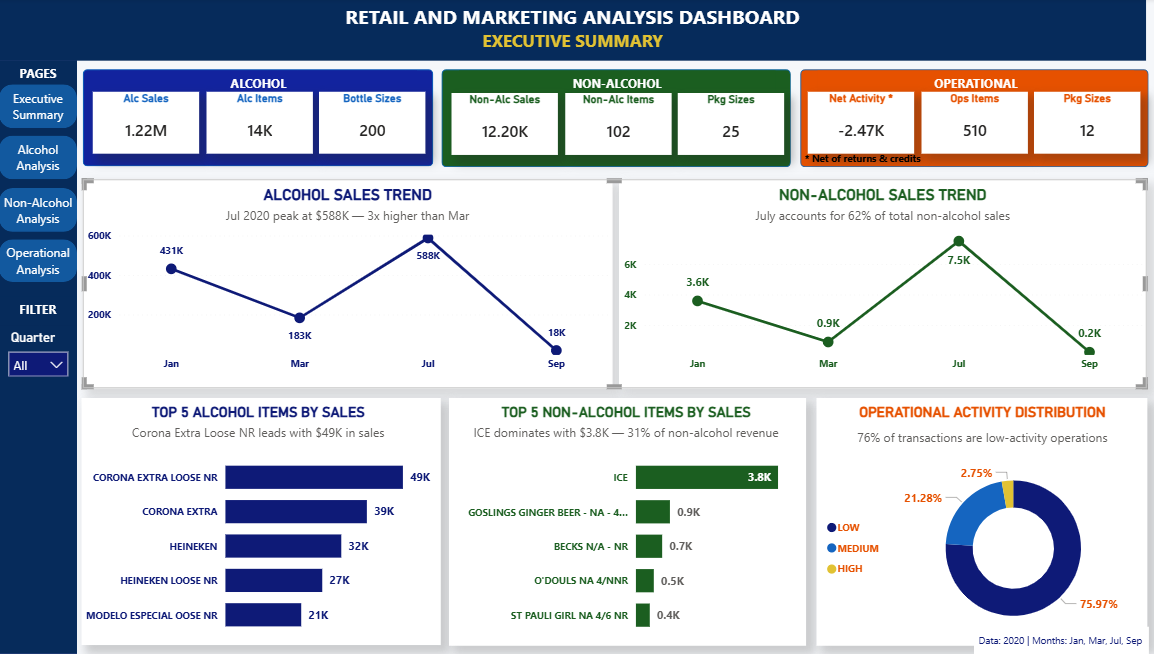

Layout of this report page (visuals, bound fields, positions):
{"tool":"powerbi","page":{"name":"Executive Summary","canvas":[1280,720],"ordinal":0},"visuals":[{"type":"textbox","box":[0,0,1259.5,69],"z":0},{"type":"shape","box":[91.9,78.8,384.8,106.7],"z":0,"group":"g4"},{"type":"textbox","box":[111,79.6,347.5,31.4],"z":0,"group":"g5"},{"type":"group","id":"g1","title":"Group 2","box":[102.9,102.9,365.6,67.7],"z":0,"group":"g6"},{"type":"cardVisual","title":"Alc Sales","fields":{"Data":["alcohol_data_processed.Alcohol Total Sales"]},"box":[102.9,102.9,117,67.7],"z":0,"group":"g1"},{"type":"cardVisual","title":"Net Activity *","fields":{"Data":["operational_data_processed.Operational Total Sales"]},"box":[887.2,102.9,117,67.7],"z":0,"group":"g3"},{"type":"cardVisual","title":"Non-Alc Sales","fields":{"Data":["non_alcohol_data_processed.NonAlcohol Total Sales"]},"box":[496.3,103.9,117,67.7],"z":0,"group":"g2"},{"type":"lineChart","title":"ALCOHOL SALES TREND","fields":{"Category":["alcohol_data_processed.Month Name"],"Y":["Sum(alcohol_data_processed.total_sales)"]},"box":[91.9,199,581.5,229.7],"z":0,"group":"g7"},{"type":"clusteredBarChart","title":"TOP 5 ALCOHOL ITEMS BY SALES","fields":{"Category":["alcohol_data_processed.item_description"],"Y":["Sum(alcohol_data_processed.total_sales)"]},"box":[90.6,439.6,394,271.2],"z":0,"group":"g8"},{"type":"shape","box":[0,68.8,85.7,651.5],"z":1000},{"type":"shape","box":[880,78.2,382.4,107.5],"z":1000,"group":"g4"},{"type":"textbox","box":[504.3,79.6,347.5,31.4],"z":1000,"group":"g5"},{"type":"cardVisual","title":"Alc Items","fields":{"Data":["alcohol_data_processed.Alcohol Total Items"]},"box":[227.2,102.9,117,67.7],"z":1000,"group":"g1"},{"type":"cardVisual","title":"Ops Items","fields":{"Data":["operational_data_processed.Operational Total Items"]},"box":[1011.5,102.9,117,67.7],"z":1000,"group":"g3"},{"type":"group","id":"g2","title":"Group 2","box":[496.3,103.9,365.6,67.7],"z":1000,"group":"g6"},{"type":"cardVisual","title":"Non-Alc Items","fields":{"Data":["non_alcohol_data_processed.NonAlcohol Total Items"]},"box":[620.6,103.9,117,67.7],"z":1000,"group":"g2"},{"type":"lineChart","title":"NON-ALCOHOL SALES TREND","fields":{"Y":["Sum(non_alcohol_data_processed.total_sales)"],"Category":["non_alcohol_data_processed.Month Name"]},"box":[680.6,199,579.1,229.7],"z":1000,"group":"g7"},{"type":"clusteredBarChart","title":"TOP 5 NON-ALCOHOL ITEMS BY SALES","fields":{"Category":["non_alcohol_data_processed.item_description"],"Y":["Sum(non_alcohol_data_processed.total_sales)"]},"box":[494.1,439.1,391.8,271.6],"z":1000,"group":"g8"},{"type":"shape","box":[485.6,78.8,383.6,107.5],"z":2000,"group":"g4"},{"type":"textbox","box":[898.8,79.6,347.5,31.4],"z":2000,"group":"g5"},{"type":"cardVisual","title":"Bottle Sizes","fields":{"Data":["alcohol_data_processed.Alcohol Bottle Sizes"]},"box":[351.5,102.9,117,67.7],"z":2000,"group":"g1"},{"type":"group","id":"g3","title":"Group 2","box":[887.2,102.9,365.6,67.7],"z":2000,"group":"g6"},{"type":"cardVisual","title":"Pkg Sizes","fields":{"Data":["operational_data_processed.Operational Package Sizes"]},"box":[1135.8,102.9,117,67.7],"z":2000,"group":"g3"},{"type":"cardVisual","title":"Pkg Sizes","fields":{"Data":["non_alcohol_data_processed.NonAlcohol Package Sizes"]},"box":[744.9,103.9,117,67.7],"z":2000,"group":"g2"},{"type":"textbox","box":[0,328.2,85.3,31.8],"z":2000},{"type":"donutChart","title":"OPERATIONAL ACTIVITY DISTRIBUTION","fields":{"Category":["operational_data_processed.operational_activity"],"Y":["CountNonNull(operational_data_processed.item_description)"]},"box":[897.8,439.1,363.3,271.6],"z":2000,"group":"g8"},{"type":"textbox","box":[0,68.8,85.7,33.8],"z":3000},{"type":"actionButton","box":[0,94.1,85.7,48.3],"z":4000},{"type":"actionButton","box":[0,208.7,85.7,48.3],"z":5000},{"type":"actionButton","box":[0,150.8,85.7,48.3],"z":6000},{"type":"actionButton","box":[0,265.4,85.7,47.1],"z":7000},{"type":"slicer","title":"Quarter","fields":{"Values":["non_alcohol_data_processed.quarter"]},"box":[0,360,85.6,55.9],"z":8000},{"type":"group","id":"g4","title":"Group 1","box":[91.9,78.2,1170.5,107],"z":9000},{"type":"group","id":"g5","title":"Group 4","box":[111,79.6,1135.3,31.4],"z":10000},{"type":"group","id":"g6","title":"Group 3","box":[102.9,102.9,1149.9,68.7],"z":11000},{"type":"group","id":"g7","title":"Group 5","box":[91.9,199,1167.8,229.2],"z":12000},{"type":"textbox","box":[879.6,160.5,263.5,35.7],"z":13000},{"type":"group","id":"g8","title":"Group 6","box":[90.6,439.1,1170.5,271.7],"z":14000},{"type":"textbox","box":[1070.3,690.2,192.1,30.2],"z":15000}]}

Visuals, with their boxes on the page's 1280x720 design canvas (x1, y1, x2, y2). These are canvas units, not pixel positions in the 1154x654 screenshot, which may show the page scaled, cropped or inside an application window:
textbox: bbox=(0, 0, 1260, 69)
shape: bbox=(92, 79, 477, 186)
textbox: bbox=(111, 80, 458, 111)
"Group 2" group: bbox=(103, 103, 468, 171)
"Alc Sales" cardVisual: bbox=(103, 103, 220, 171)
"Net Activity *" cardVisual: bbox=(887, 103, 1004, 171)
"Non-Alc Sales" cardVisual: bbox=(496, 104, 613, 172)
"ALCOHOL SALES TREND" lineChart: bbox=(92, 199, 673, 429)
"TOP 5 ALCOHOL ITEMS BY SALES" clusteredBarChart: bbox=(91, 440, 485, 711)
shape: bbox=(0, 69, 86, 720)
shape: bbox=(880, 78, 1262, 186)
textbox: bbox=(504, 80, 852, 111)
"Alc Items" cardVisual: bbox=(227, 103, 344, 171)
"Ops Items" cardVisual: bbox=(1012, 103, 1128, 171)
"Group 2" group: bbox=(496, 104, 862, 172)
"Non-Alc Items" cardVisual: bbox=(621, 104, 738, 172)
"NON-ALCOHOL SALES TREND" lineChart: bbox=(681, 199, 1260, 429)
"TOP 5 NON-ALCOHOL ITEMS BY SALES" clusteredBarChart: bbox=(494, 439, 886, 711)
shape: bbox=(486, 79, 869, 186)
textbox: bbox=(899, 80, 1246, 111)
"Bottle Sizes" cardVisual: bbox=(352, 103, 468, 171)
"Group 2" group: bbox=(887, 103, 1253, 171)
"Pkg Sizes" cardVisual: bbox=(1136, 103, 1253, 171)
"Pkg Sizes" cardVisual: bbox=(745, 104, 862, 172)
textbox: bbox=(0, 328, 85, 360)
"OPERATIONAL ACTIVITY DISTRIBUTION" donutChart: bbox=(898, 439, 1261, 711)
textbox: bbox=(0, 69, 86, 103)
actionButton: bbox=(0, 94, 86, 142)
actionButton: bbox=(0, 209, 86, 257)
actionButton: bbox=(0, 151, 86, 199)
actionButton: bbox=(0, 265, 86, 312)
"Quarter" slicer: bbox=(0, 360, 86, 416)
"Group 1" group: bbox=(92, 78, 1262, 185)
"Group 4" group: bbox=(111, 80, 1246, 111)
"Group 3" group: bbox=(103, 103, 1253, 172)
"Group 5" group: bbox=(92, 199, 1260, 428)
textbox: bbox=(880, 160, 1143, 196)
"Group 6" group: bbox=(91, 439, 1261, 711)
textbox: bbox=(1070, 690, 1262, 720)
